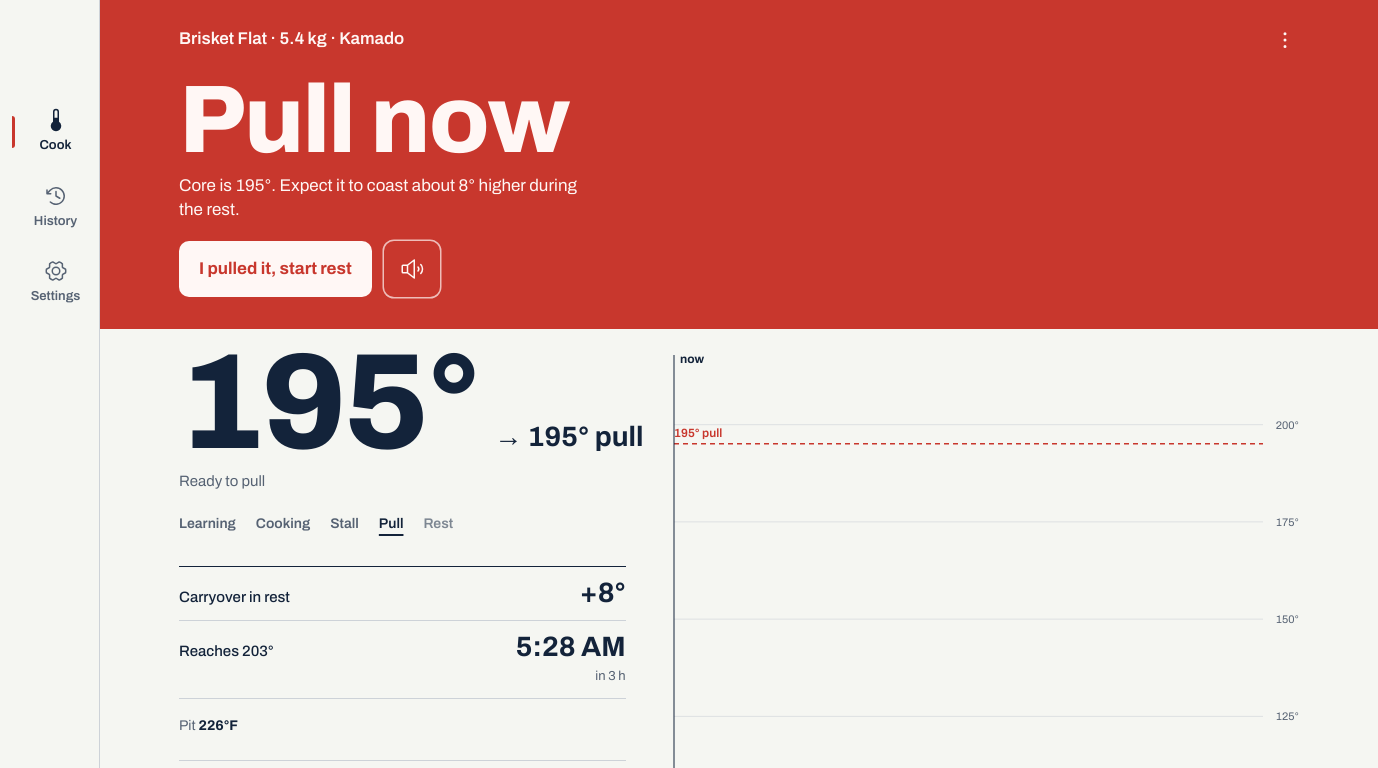
Test case: LiveCook › says so when the pull couldn't be saved
This screenshot has width=1378, height=768.
Click the button "I pulled it, start rest": (275, 269) x1=179 y1=241 x2=372 y2=297
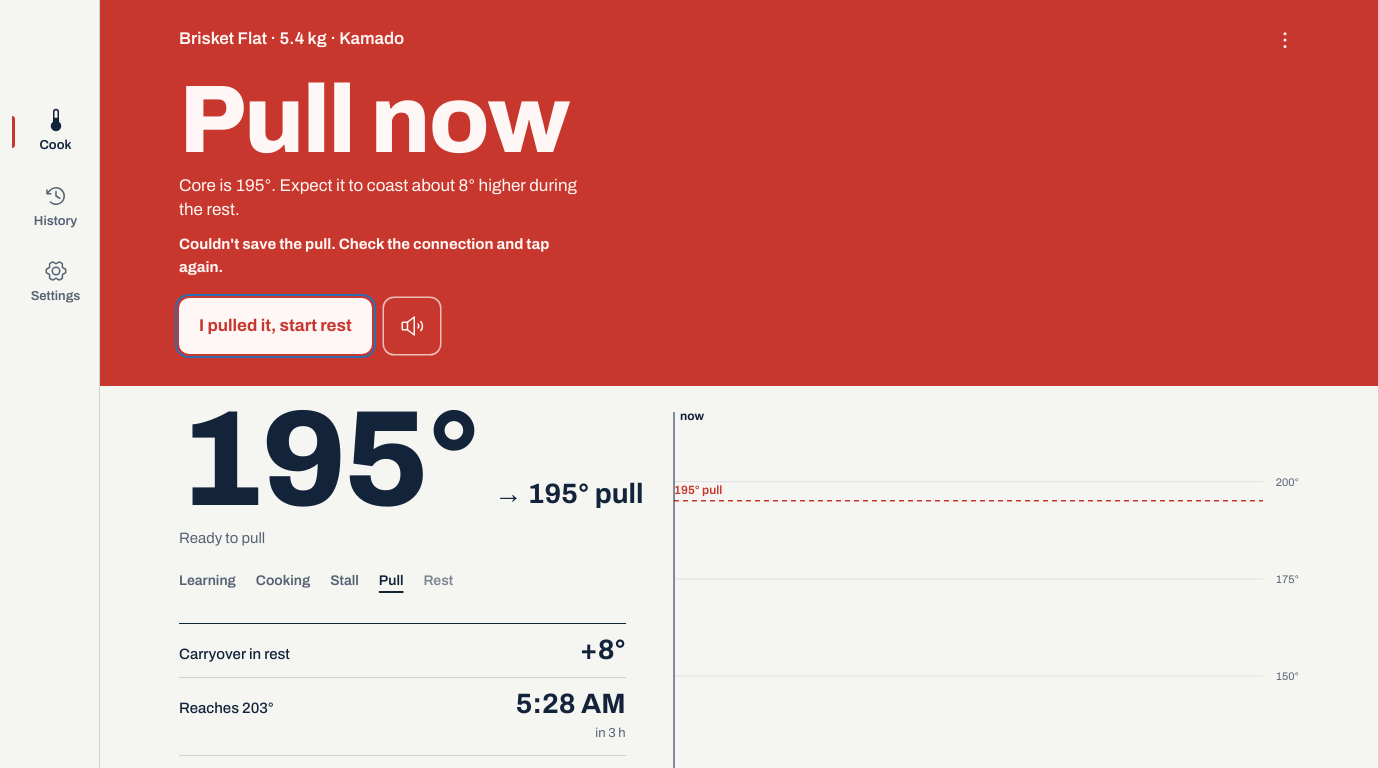
Now the text "Couldn't save the pull. Check the connection and tap again." is shown, box x1=179 y1=233 x2=554 y2=278
